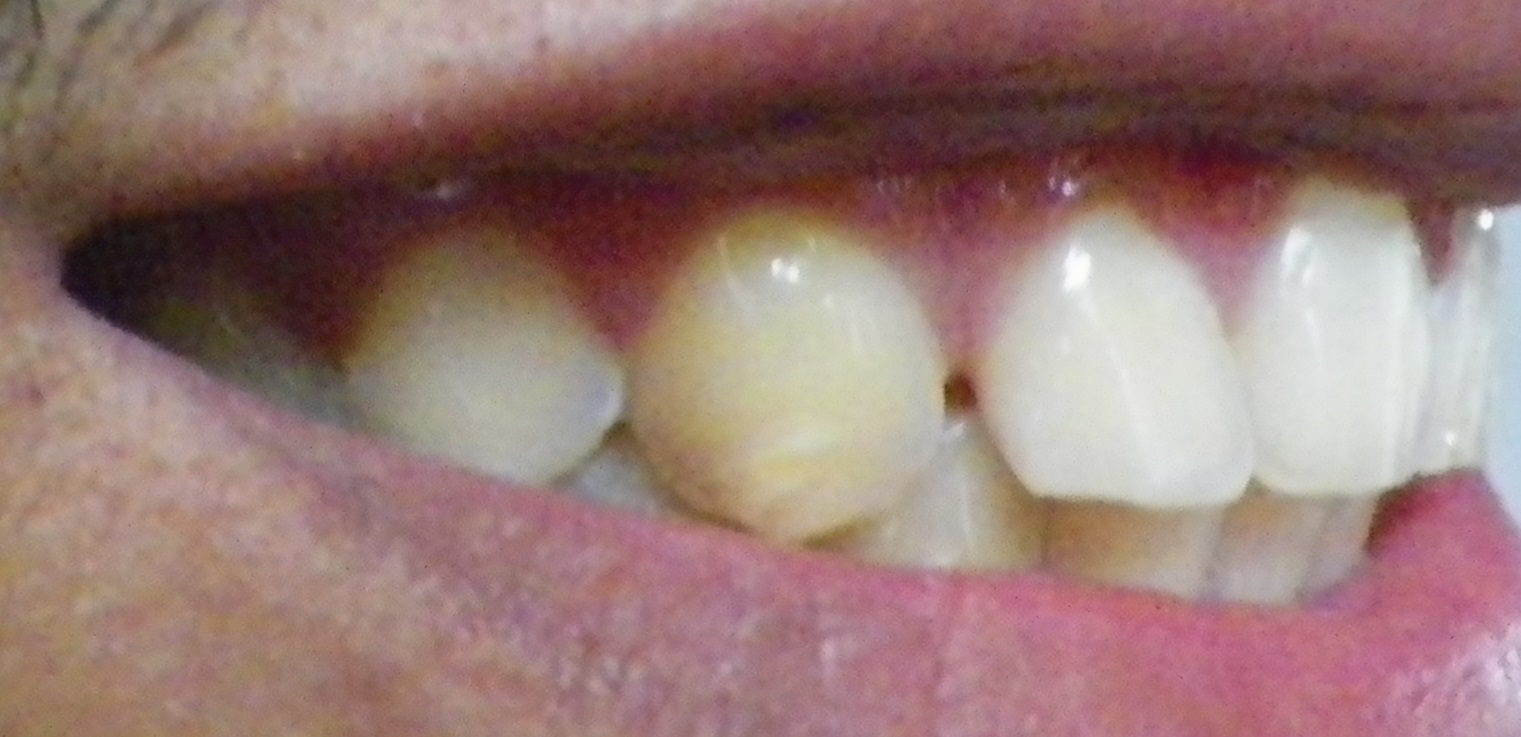boca: (117, 160, 1489, 609)
